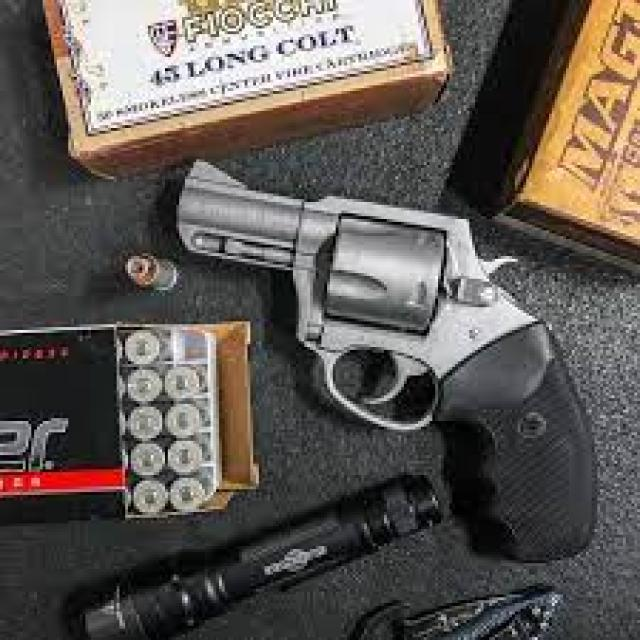Gun: (176, 165, 610, 564)
